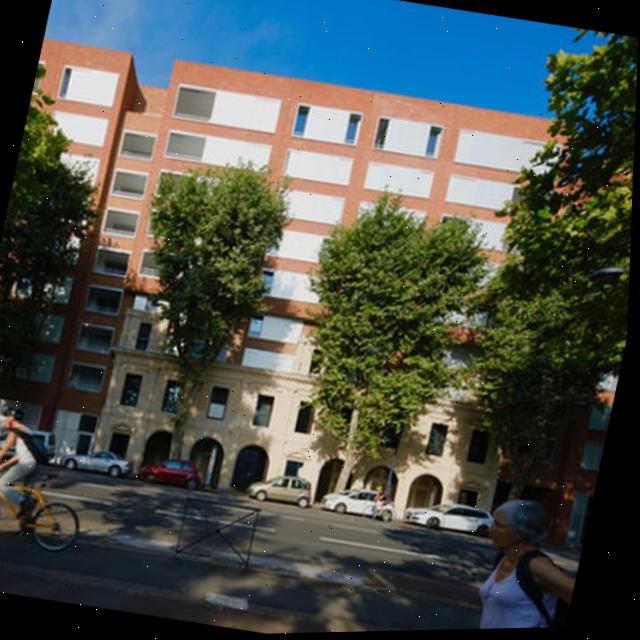building: (0, 22, 639, 563)
